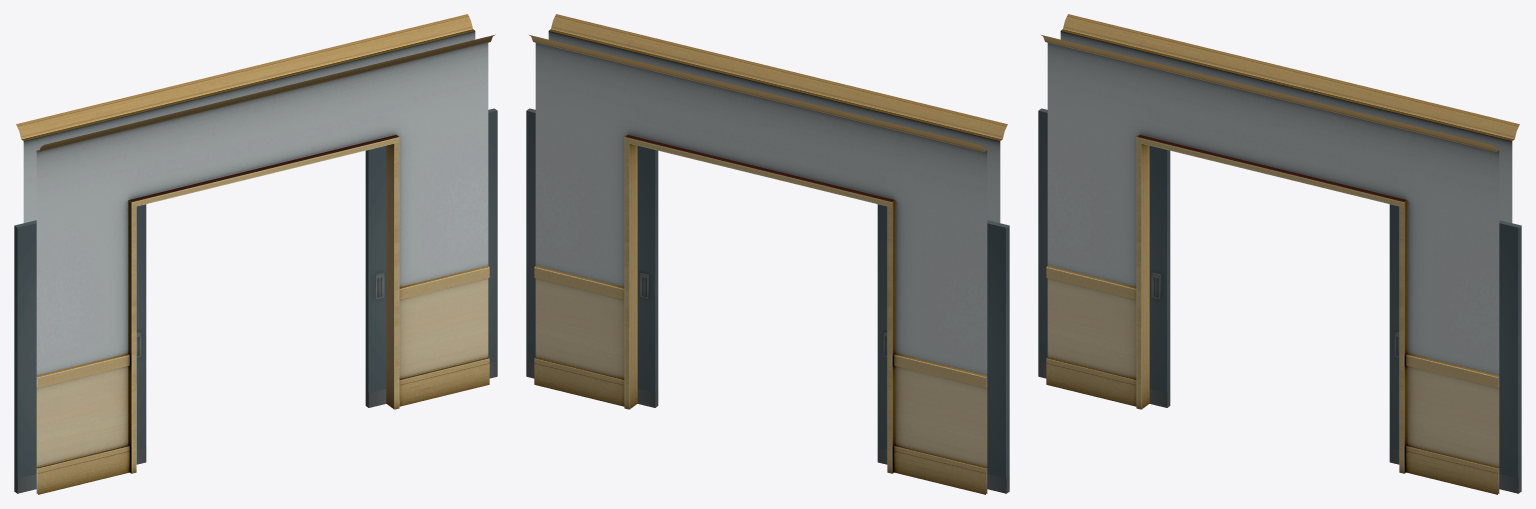
File: InteriorDoor (merge).fbx
3 renders of one model, left to right at view 1: azimuth 30°, elevation 25°; view 2: azimuth 150°, elevation 25°; view 3: azimuth 330°, elevation 25°, orthographic.
Parts seen in each view (by area): view 1: InteriorDoor (1), Interior_Wall_Double_Door 3, LeftDoor, RightDoor; view 2: Interior_Wall_Double_Door 3, InteriorDoor (1), LeftDoor, RightDoor; view 3: InteriorDoor (1), Interior_Wall_Double_Door 3, RightDoor, LeftDoor.
Boxes of the visible parts, box(x1,y1,x2,y2) form: InteriorDoor (1): box(36, 34, 495, 494); Interior_Wall_Double_Door 3: box(16, 14, 475, 222); LeftDoor: box(14, 204, 146, 493); RightDoor: box(365, 108, 497, 407); Interior_Wall_Double_Door 3: box(528, 34, 987, 494); InteriorDoor (1): box(548, 14, 1007, 222); LeftDoor: box(877, 204, 1009, 493); RightDoor: box(526, 108, 658, 407); InteriorDoor (1): box(1040, 34, 1499, 494); Interior_Wall_Double_Door 3: box(1060, 14, 1519, 222); RightDoor: box(1389, 204, 1521, 493); LeftDoor: box(1038, 108, 1170, 407).
Bounding box in the file's own units: 4.32 × 3.05 × 0.4382.
Materials: 3 (3 with a texture image).
